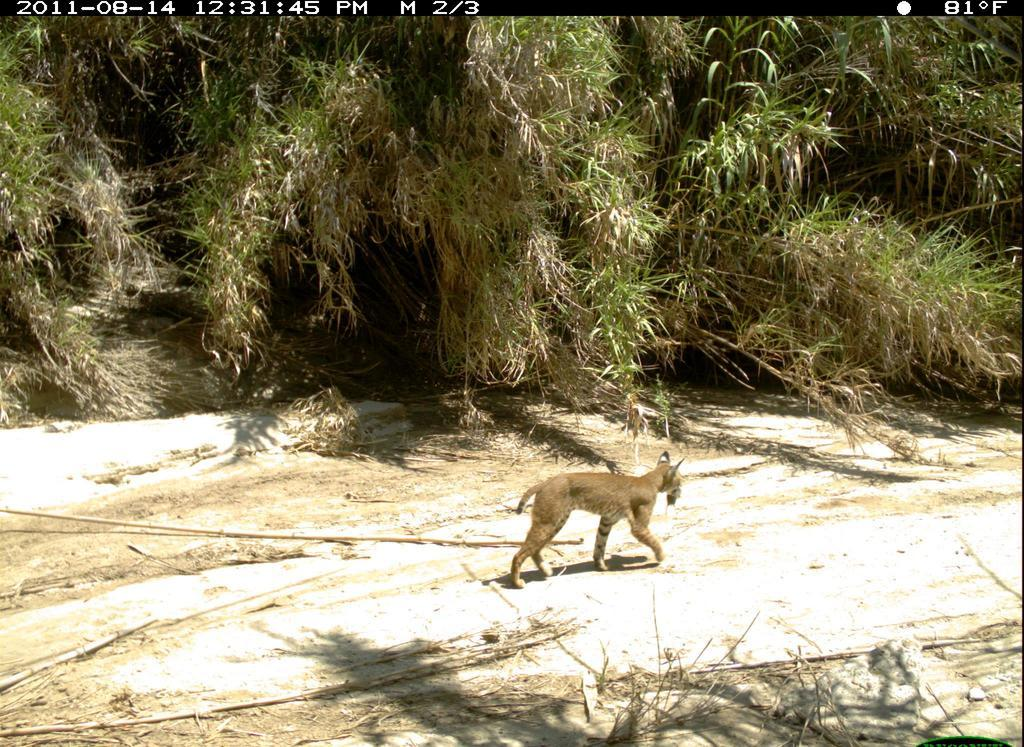bobcat: (501, 449, 692, 593)
